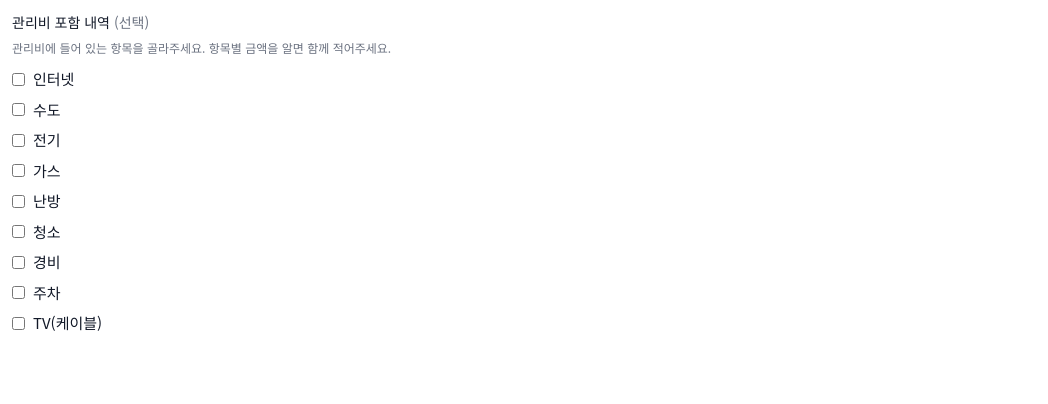
it: MaintenanceItemsField › warns when the itemized amounts exceed the monthly fee
This screenshot has width=1048, height=404.
Click the checkbox labelled "수도": {"x": 18, "y": 110} [12, 103, 25, 116]
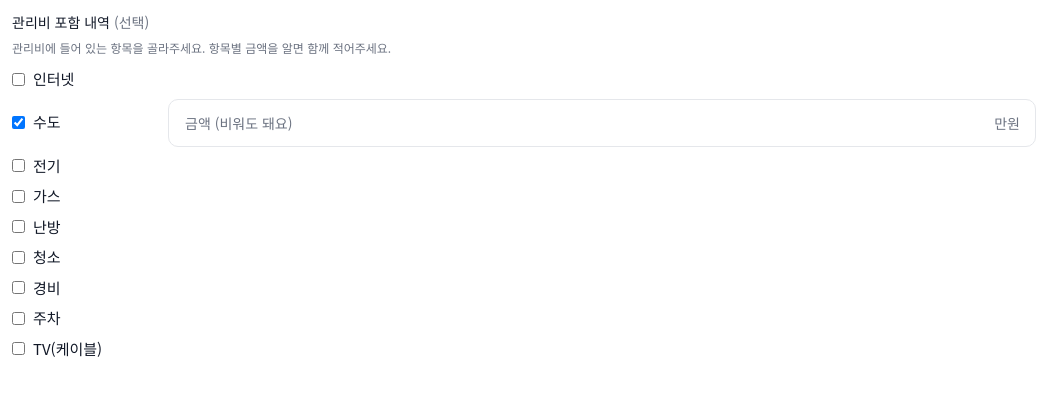
In the number field named "수도 금액": {"x": 602, "y": 122} [168, 98, 1036, 146], type "5"
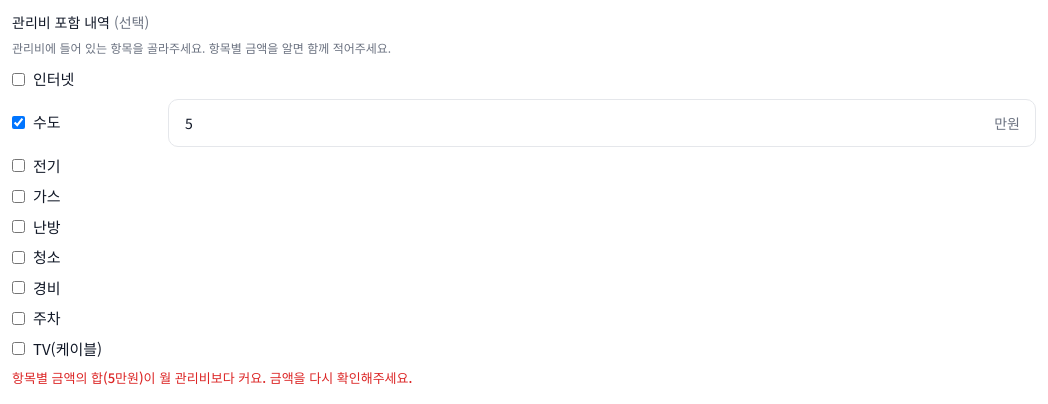
Result: the text "항목별 금액의 합(5만원)이 월 관리비보다 커요. 금액을 다시 확인해주세요." is shown at [12, 368, 412, 387]
